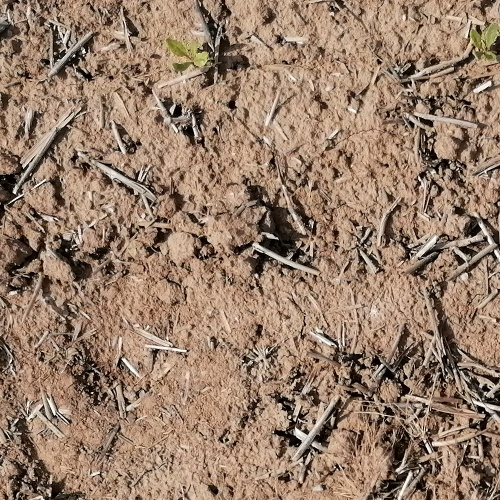beet: (470, 17, 500, 64), (167, 40, 209, 71)
